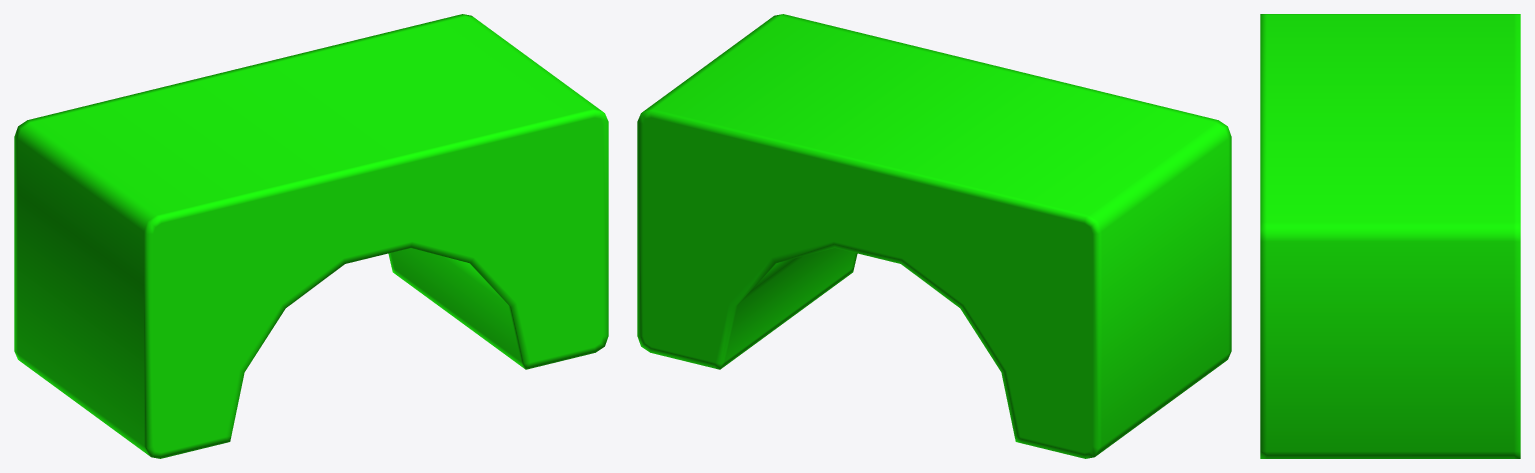
The model's file is wooden_block_bridge_2_1_01.FBX.
The picture shows the model from 3 angles, left to right: view 1: azimuth 30°, elevation 25°; view 2: azimuth 150°, elevation 25°; view 3: azimuth 270°, elevation 25°; orthographic projection. The views are drawn at different scales.
Visible parts, largest first — view 1: wooden_block_bridge_2_1_01; view 2: wooden_block_bridge_2_1_01; view 3: wooden_block_bridge_2_1_01.
Boxes of the visible parts, <box> form: wooden_block_bridge_2_1_01: <box>14,14,608,458</box>; wooden_block_bridge_2_1_01: <box>637,14,1231,458</box>; wooden_block_bridge_2_1_01: <box>1260,14,1520,458</box>.
Bounding box in the file's own units: 392 × 196 × 196.
